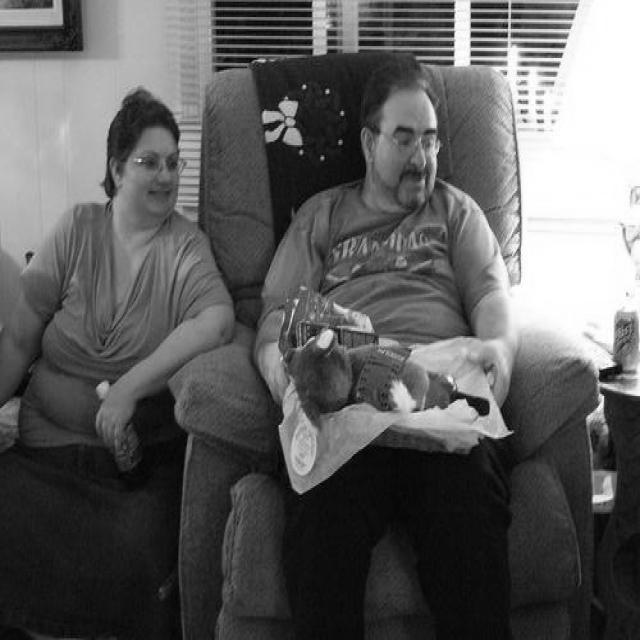Non-Gloves: (97, 382, 143, 454), (468, 347, 516, 414), (255, 358, 298, 418)
